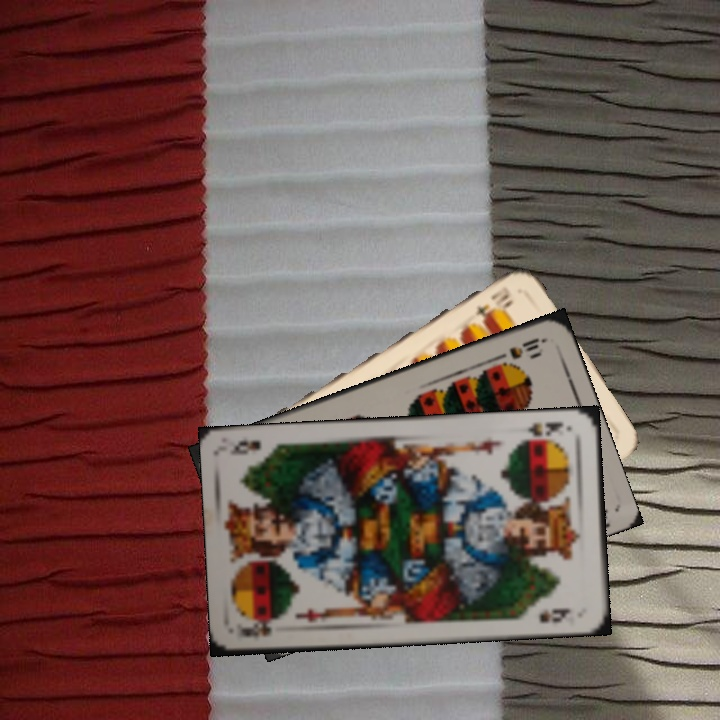E10: (470, 282, 513, 319)
S10: (491, 333, 548, 363)
SK: (517, 417, 573, 444), (236, 617, 274, 639)
